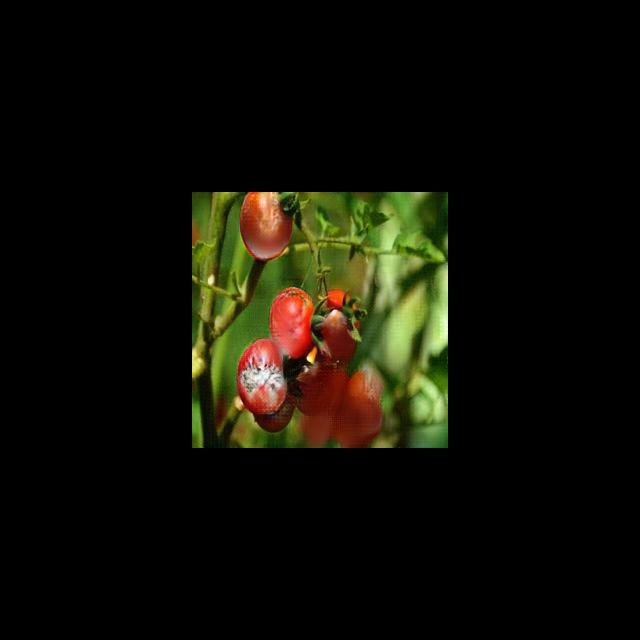tomato: (236, 338, 290, 416), (240, 192, 296, 261), (312, 287, 362, 361), (269, 283, 315, 360)
